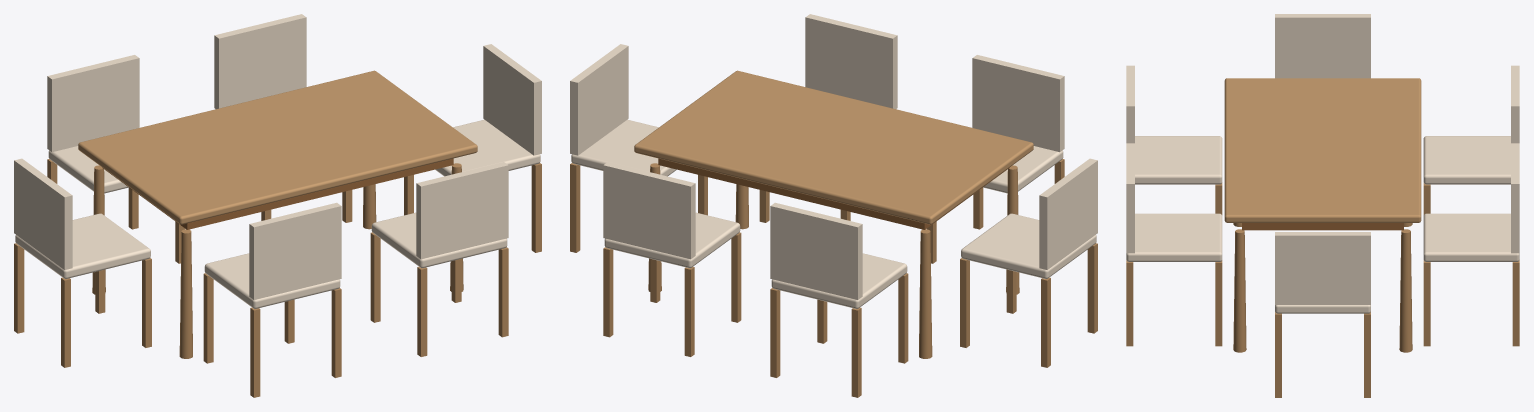
File: table-lite.glb
3 renders of one model, left to right at view 1: azimuth 30°, elevation 25°; view 2: azimuth 150°, elevation 25°; view 3: azimuth 270°, elevation 25°, orthographic. The views are drawn at different scales.
Visible parts, largest first — view 1: material-3-cushion, material-0-top, material-2-leg, material-1-trim; view 2: material-3-cushion, material-0-top, material-2-leg, material-1-trim; view 3: material-3-cushion, material-0-top, material-2-leg, material-1-trim.
Boxes of the visible parts, x1,y1,x2,y2 form: material-3-cushion: (14,14,541,308); material-0-top: (78,70,477,224); material-2-leg: (14,159,541,397); material-1-trim: (102,158,453,229); material-3-cushion: (570,14,1097,308); material-0-top: (634,70,1033,224); material-2-leg: (570,159,1097,397); material-1-trim: (658,158,1009,229); material-3-cushion: (1126,14,1519,313); material-0-top: (1224,78,1421,222); material-2-leg: (1126,183,1519,397); material-1-trim: (1242,223,1403,230).
Bounding box in the file's own units: 2.4 × 0.82 × 1.8.
